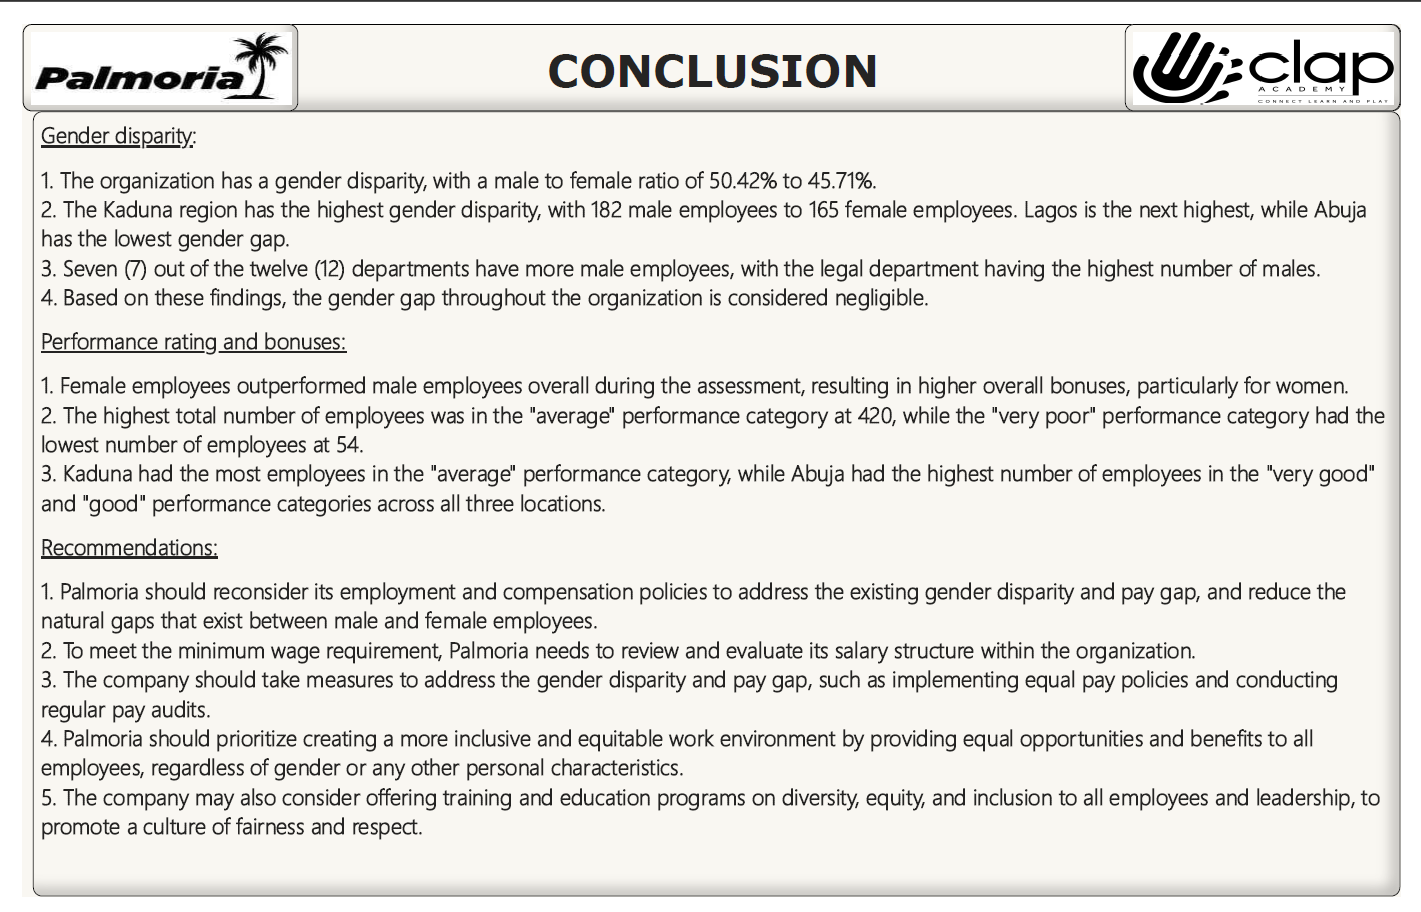

What the dashboard file says about the page in this screenshot:
{"tool":"powerbi","page":{"name":"CONCLUSION","canvas":[1500,950],"ordinal":7},"visuals":[{"type":"textbox","box":[0,0,1500.9,95],"z":0,"group":"g1"},{"type":"textbox","box":[10.5,0,267.6,280.4],"z":0},{"type":"image","box":[1200.2,0,300.1,94.9],"z":1000,"group":"g1"},{"type":"textbox","box":[10,290,268,280],"z":1000},{"type":"image","box":[0,0,300.1,94.7],"z":2000,"group":"g1"},{"type":"textbox","box":[10.9,95.5,1489.1,855],"z":2000},{"type":"group","id":"g1","title":"Group 1","box":[0,0,1500.9,95],"z":3000}]}

Visuals, with their boxes in screenshot pixels (x1, y1, x2, y2), scaled from the page's 1500x950 canvas onto the 1421x912 screenshot:
textbox: {"x1": 0, "y1": 0, "x2": 1420, "y2": 91}
textbox: {"x1": 10, "y1": 0, "x2": 263, "y2": 269}
image: {"x1": 1137, "y1": 0, "x2": 1420, "y2": 91}
textbox: {"x1": 9, "y1": 278, "x2": 263, "y2": 547}
image: {"x1": 0, "y1": 0, "x2": 284, "y2": 91}
textbox: {"x1": 10, "y1": 92, "x2": 1420, "y2": 911}
"Group 1" group: {"x1": 0, "y1": 0, "x2": 1420, "y2": 91}
